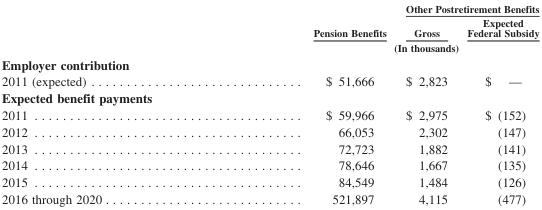table: (0, 0, 538, 206)
table column: (0, 0, 206, 206), (206, 0, 395, 206), (456, 0, 538, 206), (395, 0, 456, 206)
table column header: (0, 0, 538, 54)
table projected row header: (0, 54, 538, 72), (0, 88, 538, 106)
table row: (0, 15, 538, 39), (0, 54, 538, 72), (0, 88, 538, 106), (0, 122, 538, 139), (0, 139, 538, 156), (0, 172, 538, 189), (0, 189, 538, 206), (0, 72, 538, 88), (0, 106, 538, 122), (0, 156, 538, 172), (0, 0, 538, 15), (0, 39, 538, 54)
table spanning cell: (206, 0, 395, 39), (206, 39, 538, 54), (395, 0, 538, 15)
